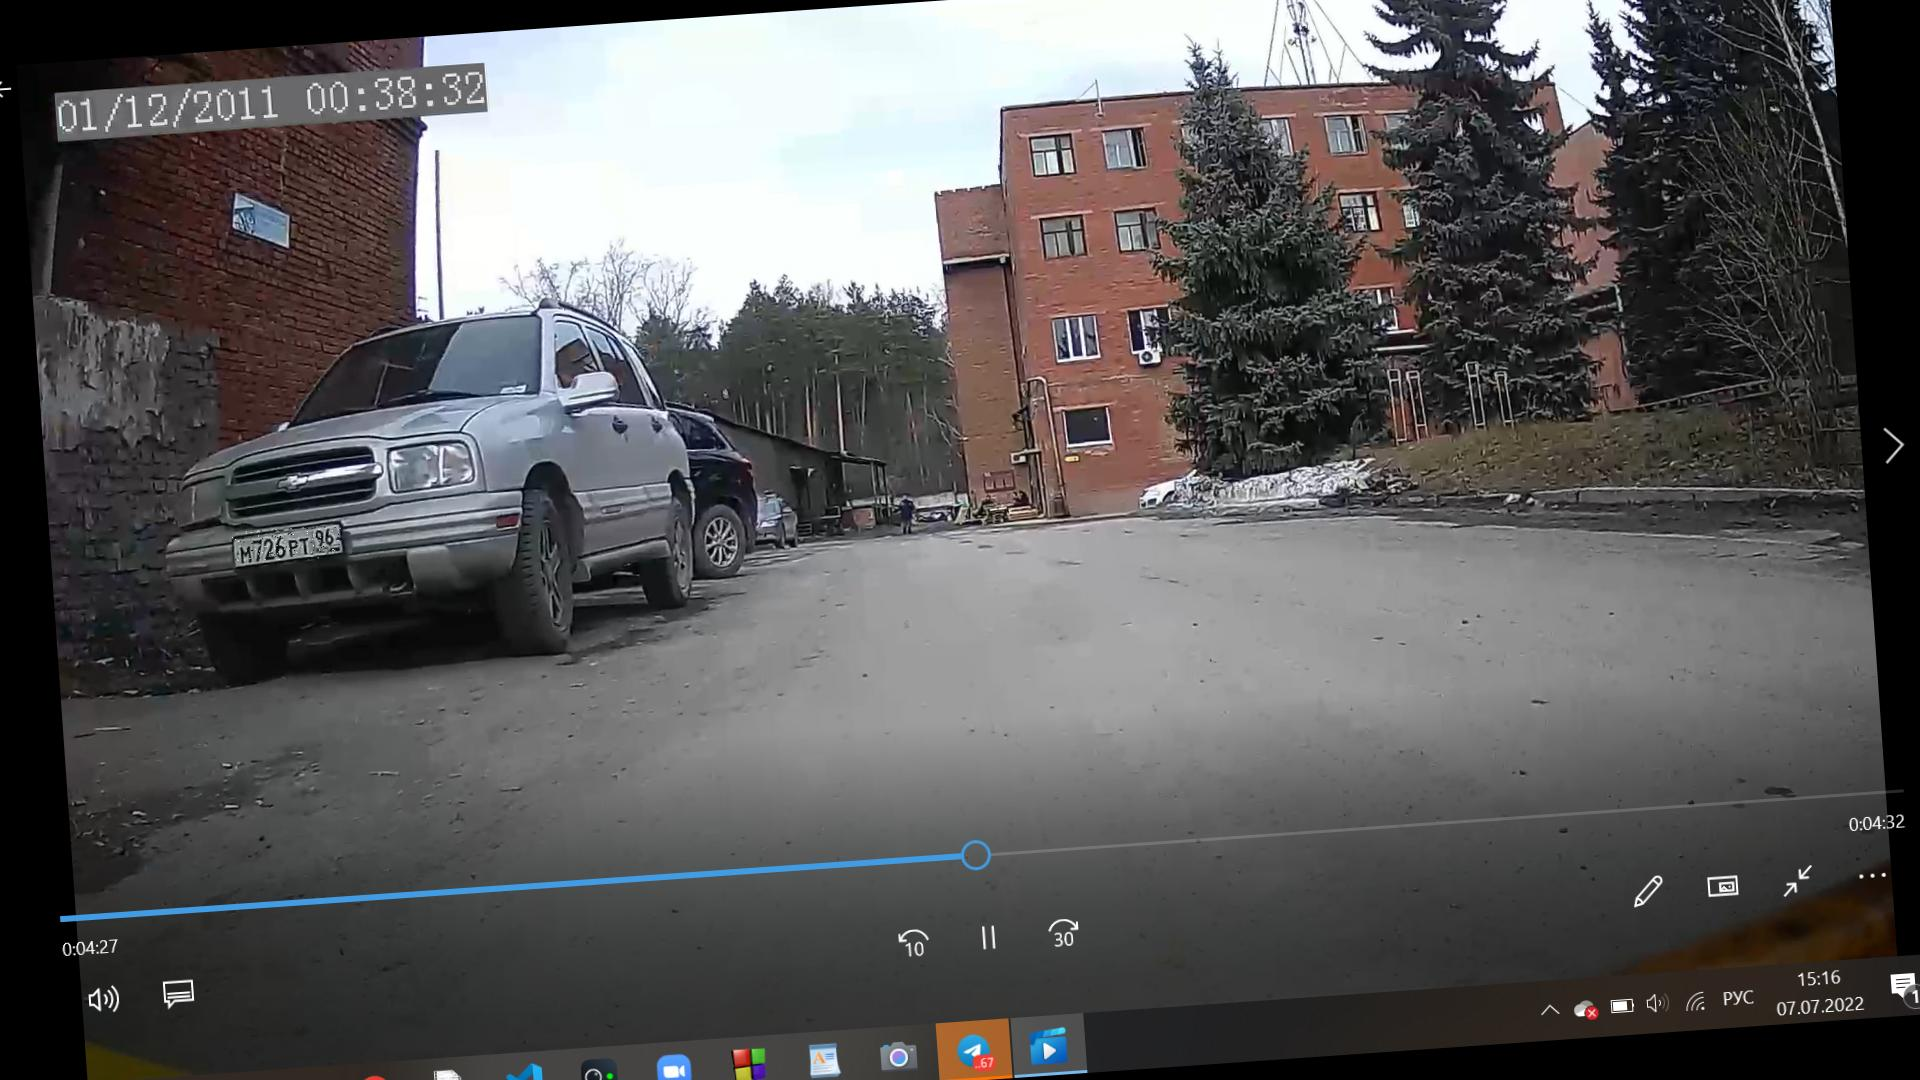plate: (232, 525, 346, 566)
